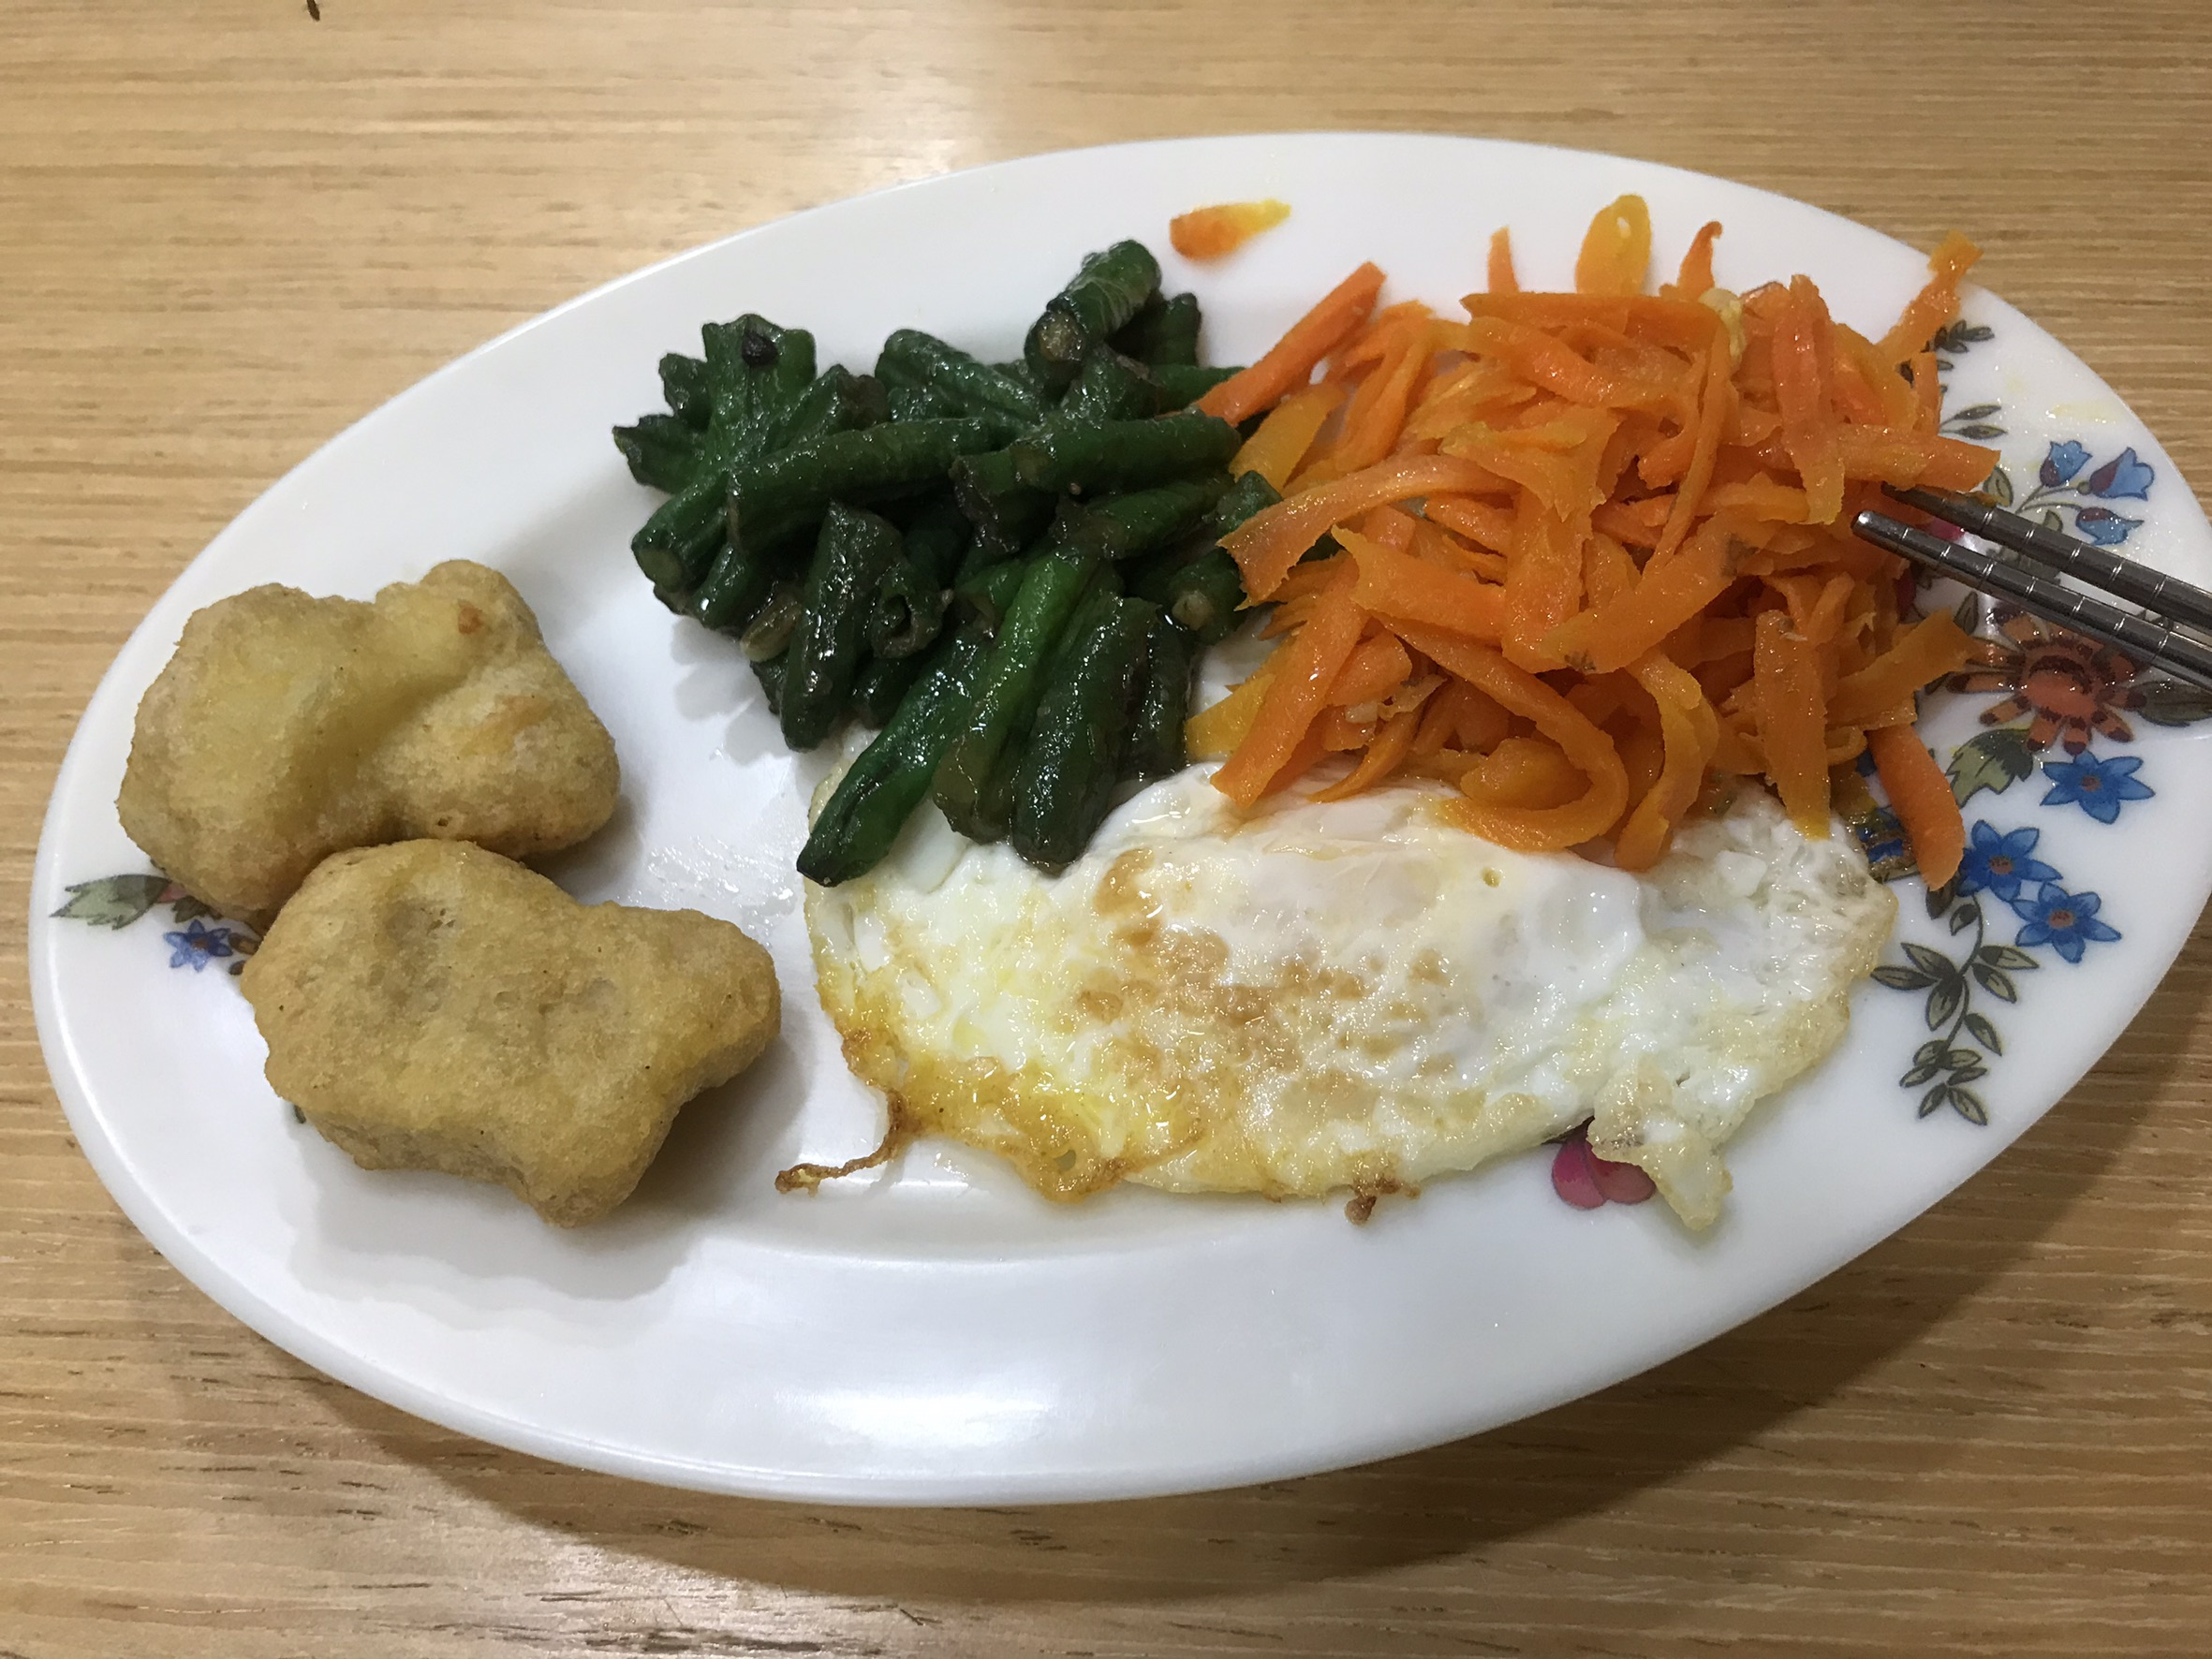carrot_eggs: (1231, 270, 1989, 802)
chicken_nuggets: (113, 563, 774, 1227)
fried_eggs: (805, 800, 1870, 1188)
